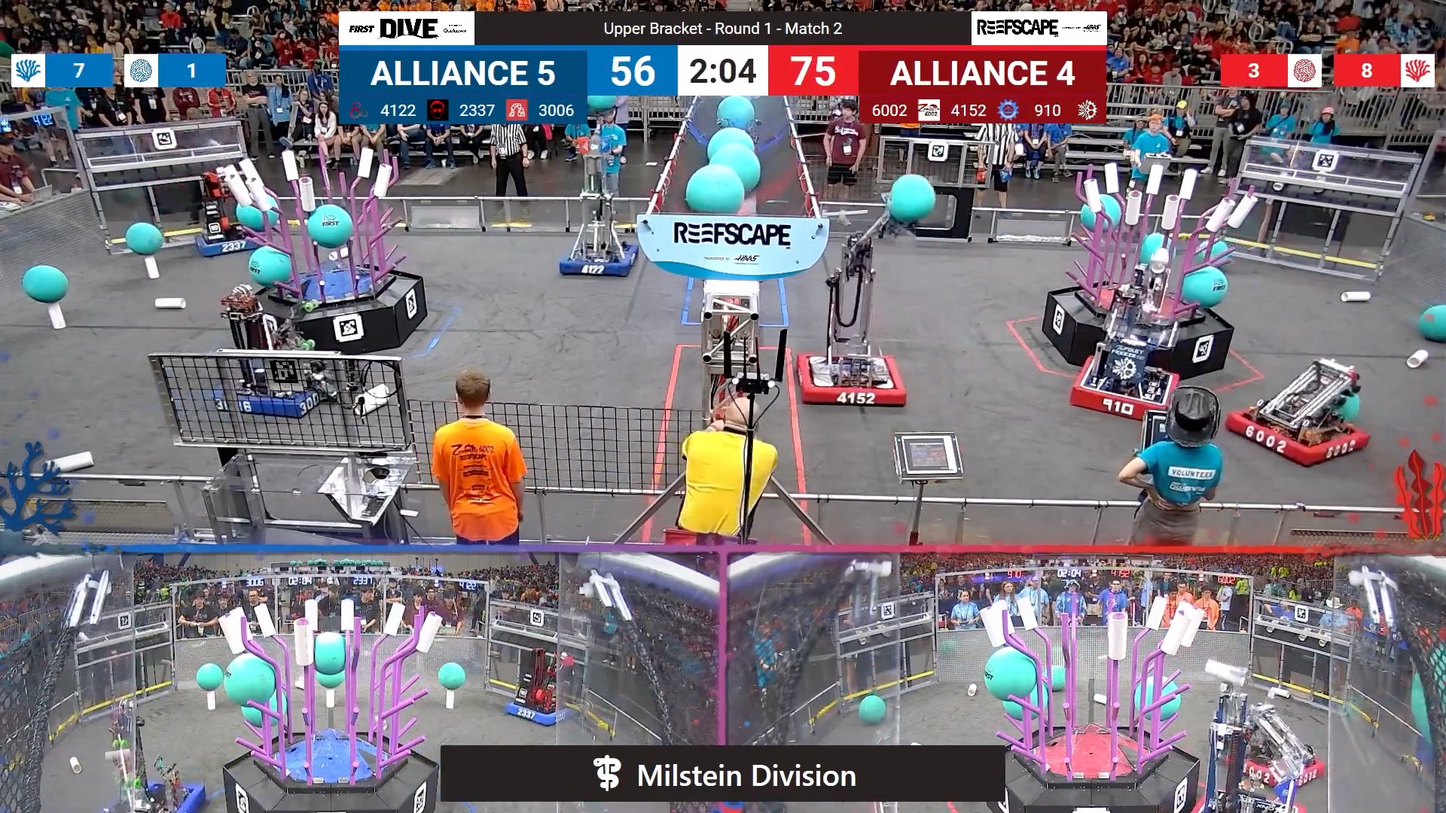bumpers: (1216, 399, 1374, 467), (785, 348, 912, 414), (211, 358, 336, 424), (1063, 360, 1182, 422), (1213, 735, 1335, 791), (82, 773, 214, 811), (551, 240, 645, 280), (188, 222, 276, 260), (1185, 791, 1322, 813), (499, 696, 577, 731)
